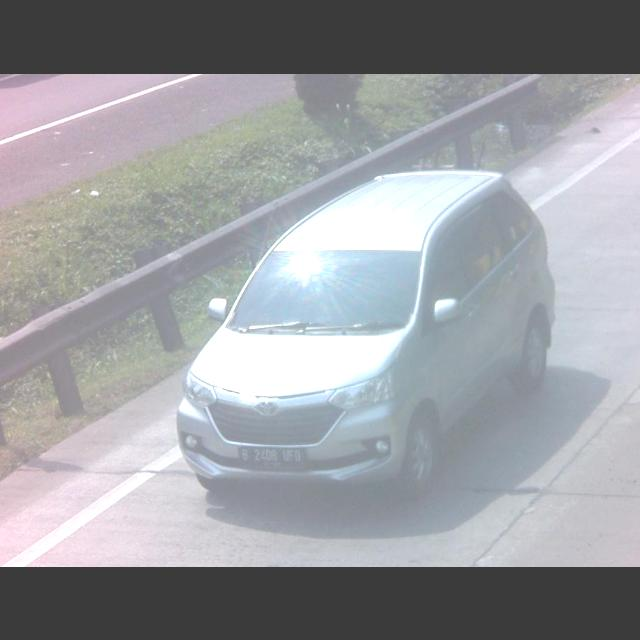plate: (237, 442, 306, 468)
